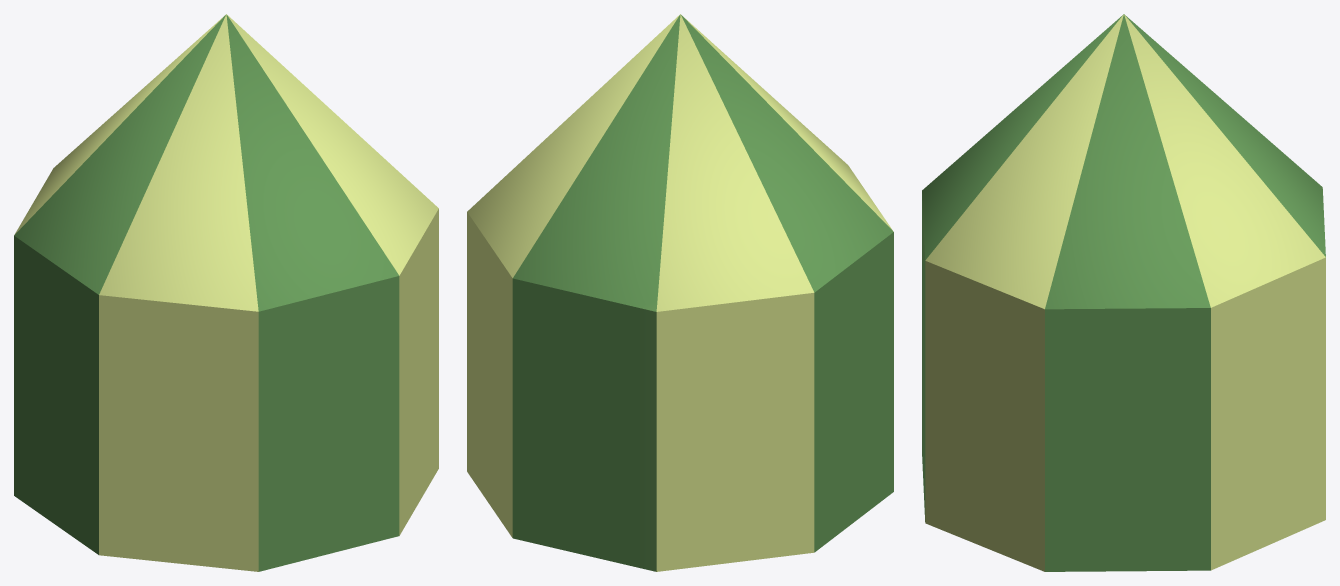
Rendered from FestivalTent2.fbx.
3 views of the same model, side by side, from view 1: azimuth 30°, elevation 25°; view 2: azimuth 150°, elevation 25°; view 3: azimuth 270°, elevation 25° (orthographic).
Visible parts, largest first — view 1: polySurface1551; view 2: polySurface1551; view 3: polySurface1551.
Part boxes in pixels (<box>): polySurface1551: <box>14,14,438,571</box>; polySurface1551: <box>467,14,893,571</box>; polySurface1551: <box>922,14,1325,571</box>.
Size of the model in its own units: 40.62 by 52.44 by 40.62.
1 material, 1 textured.
